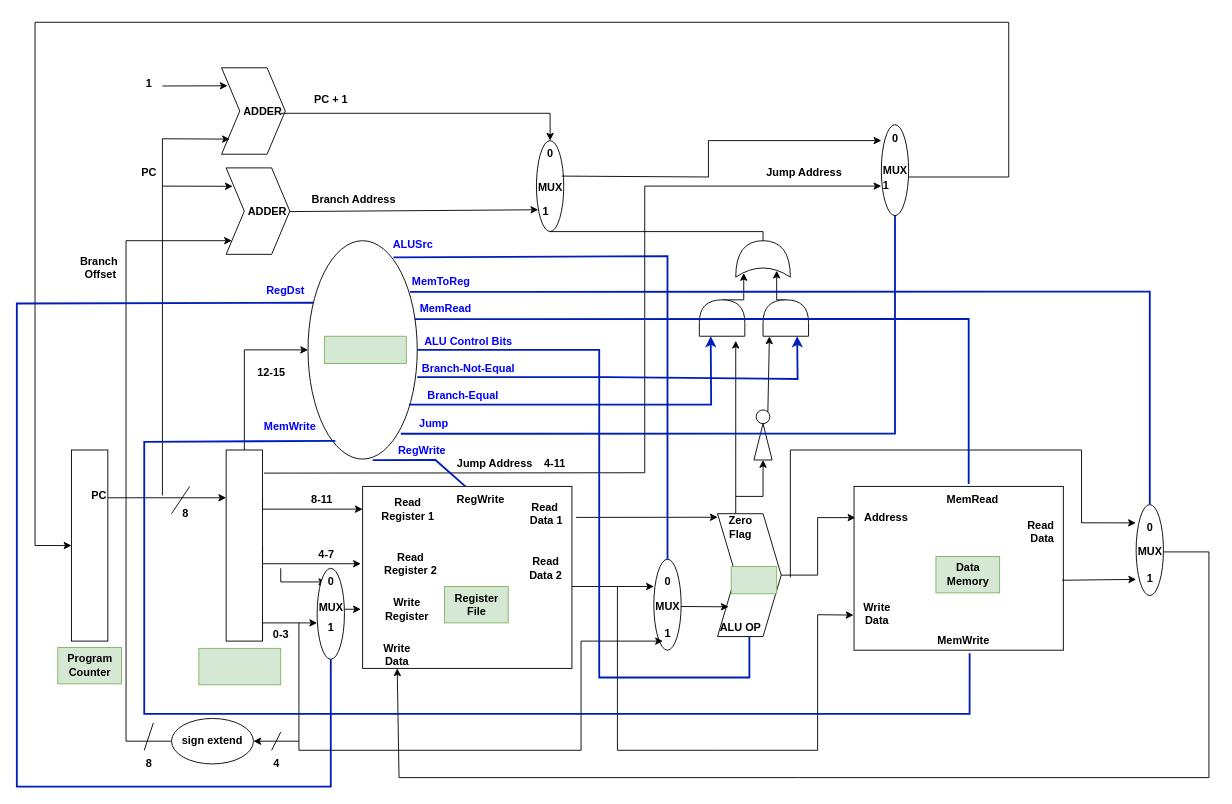
Some shapes in this 1232 by 804 pixel diagram are drawn without their labels. Each missing label, with the box of its shape:
ALU: (730, 566, 777, 594)
Control Unit: (324, 335, 406, 364)
Instruction Memory: (198, 647, 281, 685)
